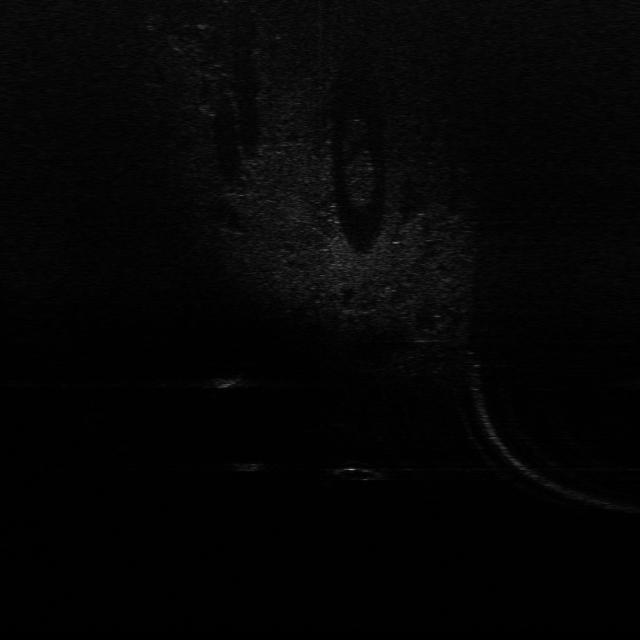cube: (228, 460, 267, 473)
square cage: (203, 372, 247, 392)
tyre: (330, 459, 386, 484)
